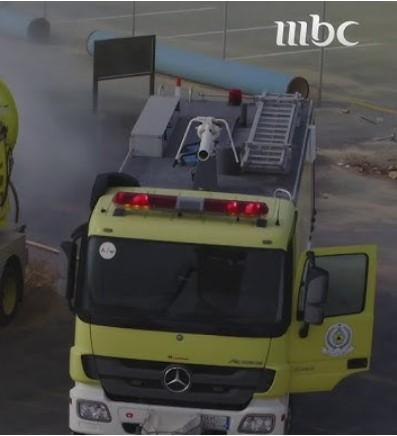firetruck_on: (68, 81, 375, 436)
